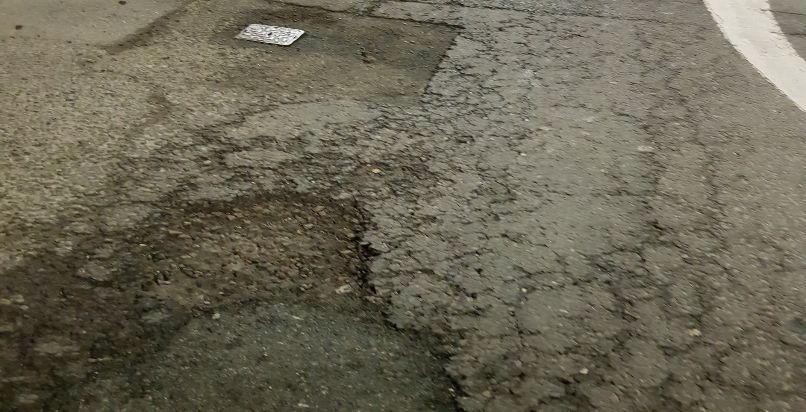pothole: (120, 184, 377, 324)
